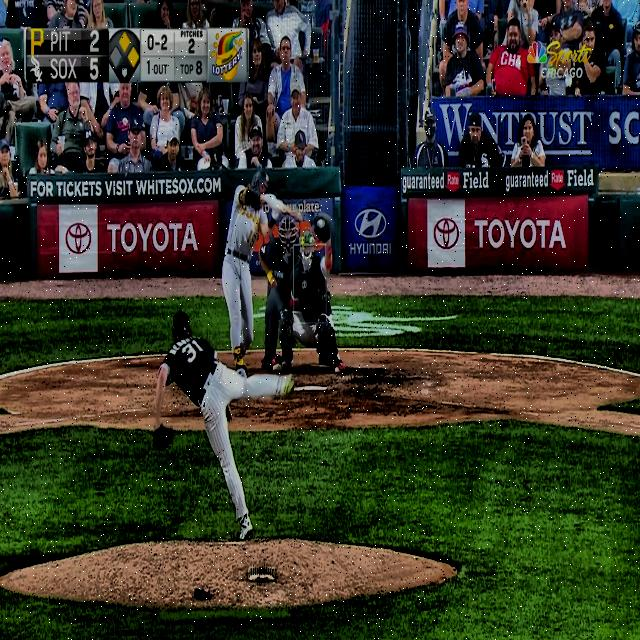baseball: (316, 219, 324, 228)
